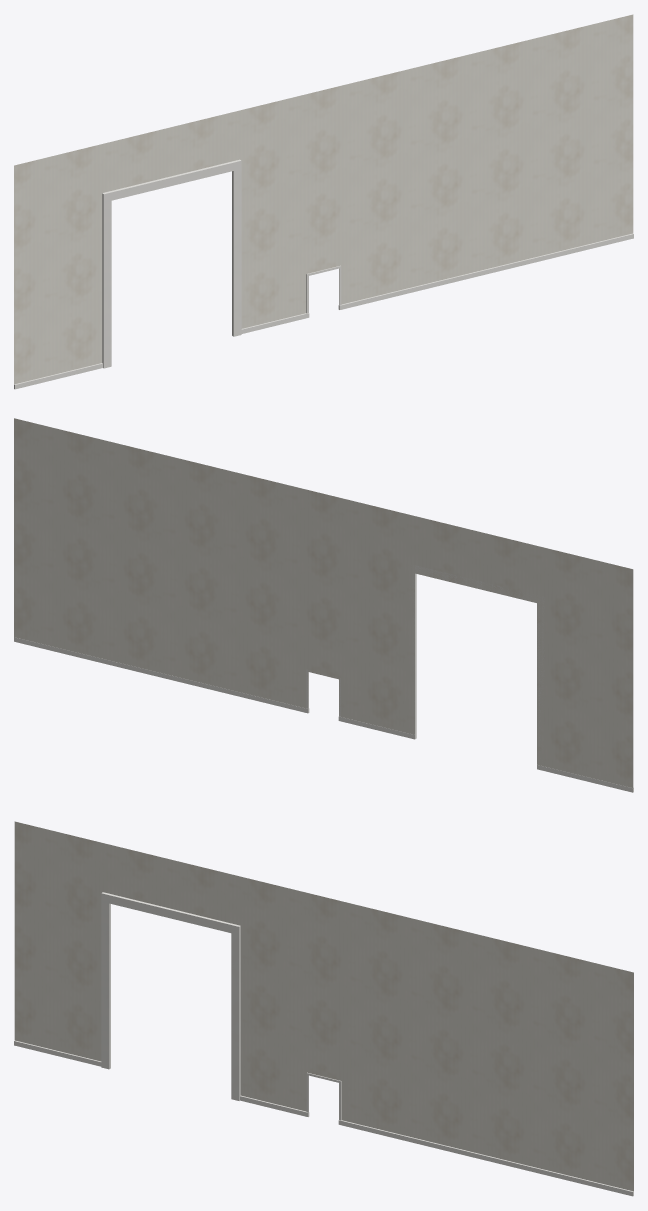
3 renders of one model, top to bottom at view 1: azimuth 30°, elevation 25°; view 2: azimuth 150°, elevation 25°; view 3: azimuth 330°, elevation 25°, orthographic.
Parts seen in each view (by area): view 1: jx_wm_20_8e91a204; view 2: jx_wm_20_8e91a204; view 3: jx_wm_20_8e91a204.
Part boxes in pixels (x1,y1,x2,y2): jx_wm_20_8e91a204: (14,14,633,389); jx_wm_20_8e91a204: (14,418,633,792); jx_wm_20_8e91a204: (14,821,633,1196).
Size of the model in its own units: 20.3 by 7 by 0.095.
2 materials, 2 textured.
